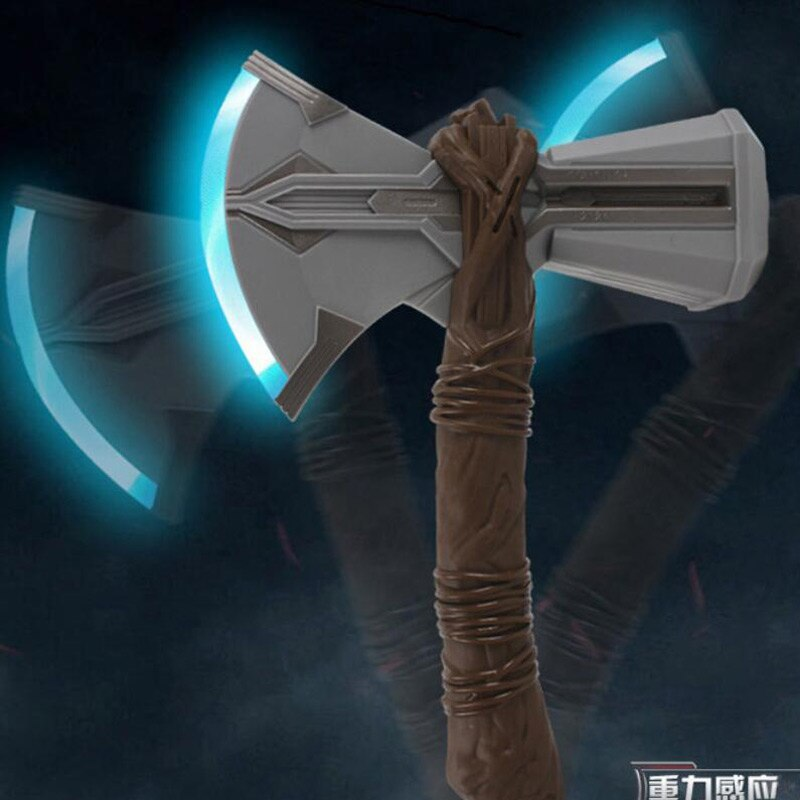THOR Hammer: (196, 47, 772, 768)
